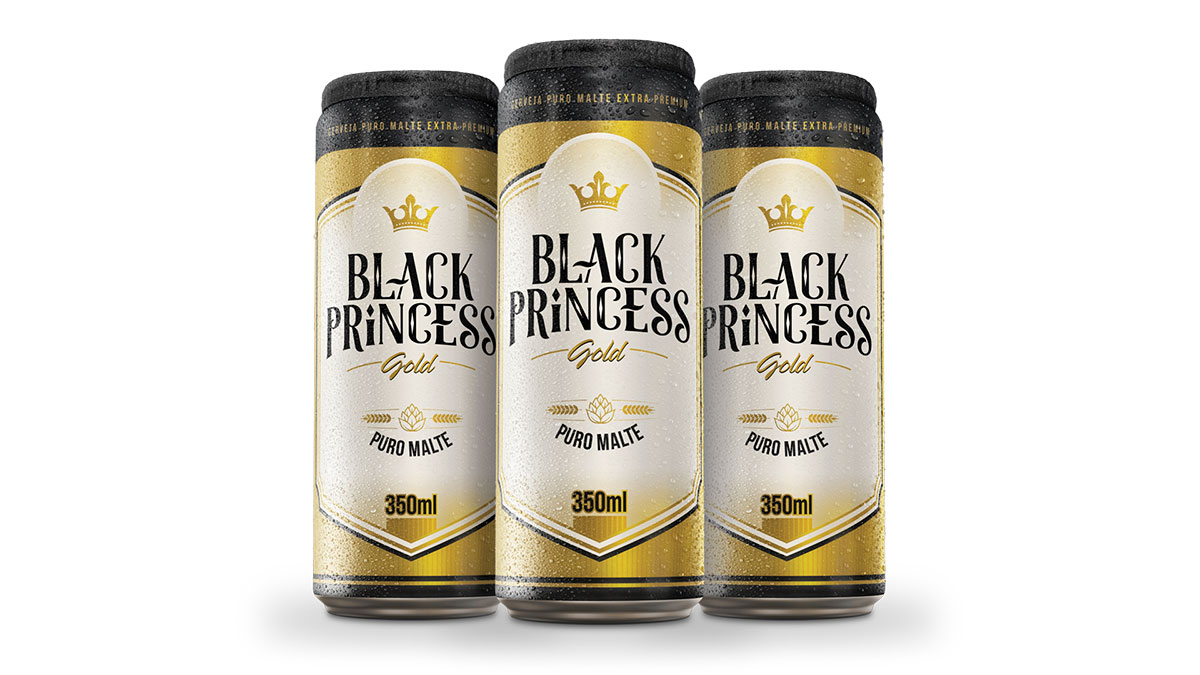blackprincess: (492, 45, 707, 631)
